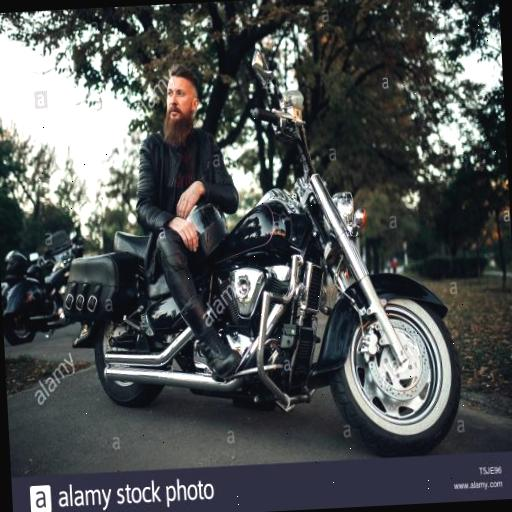no helmet: (116, 56, 258, 396)
